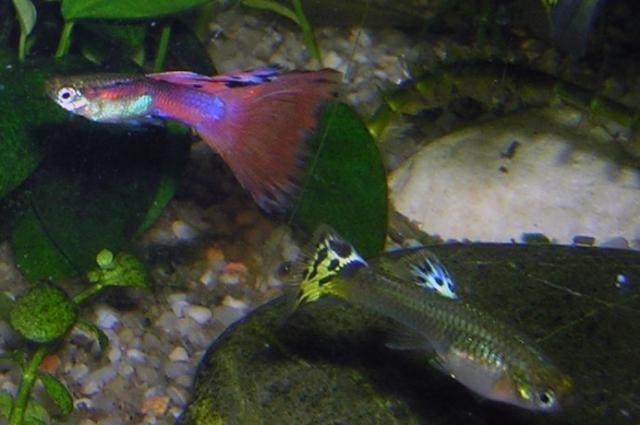Mulut: (22, 66, 76, 110)
Sirip Anal: (372, 302, 432, 354), (137, 102, 186, 130)
Sirip Ekor: (207, 56, 356, 216), (250, 210, 370, 308), (148, 52, 298, 107), (381, 234, 467, 308)
Sirip Perut: (416, 342, 464, 382), (111, 111, 147, 142)
